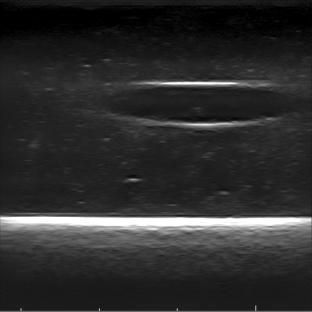vessel: (107, 80, 294, 130)
